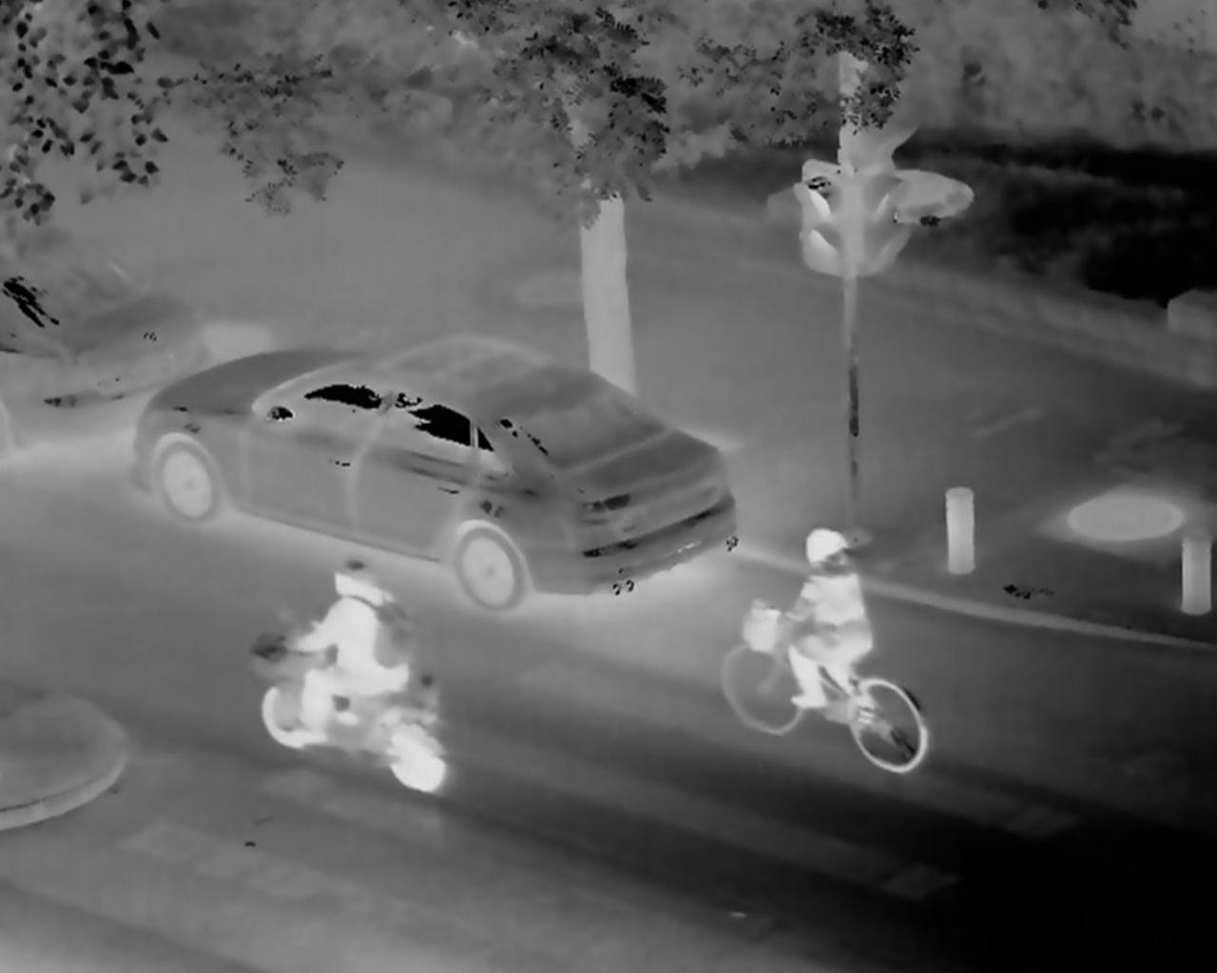person: (275, 558, 422, 763), (764, 530, 889, 712)
